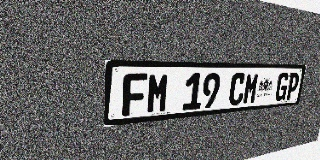1: (182, 73, 204, 110)
9: (201, 73, 221, 109)
C: (228, 73, 246, 106)
F: (122, 73, 147, 116)
G: (274, 73, 290, 101)
M: (146, 73, 170, 114), (242, 73, 260, 105)
P: (285, 73, 300, 100)
